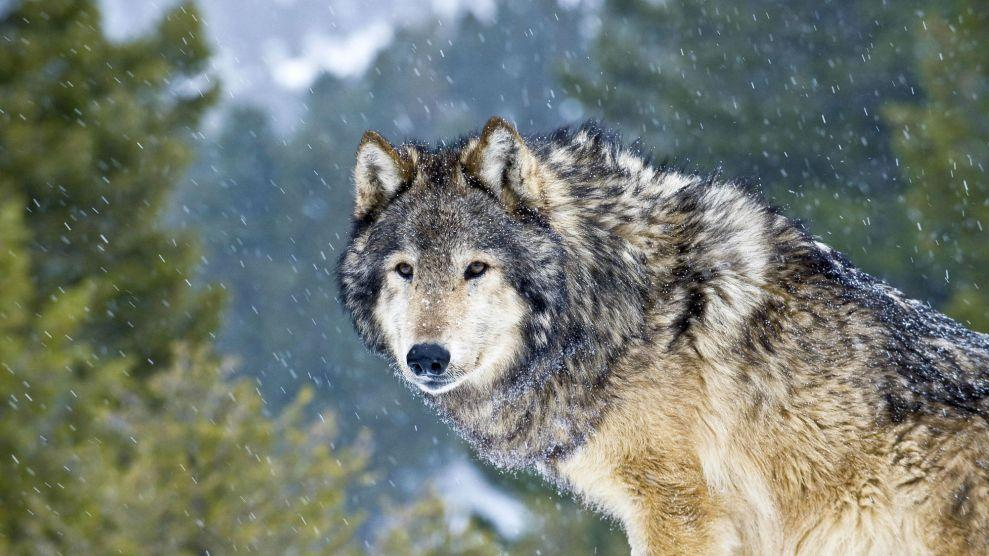Wolf: (339, 117, 989, 553)
